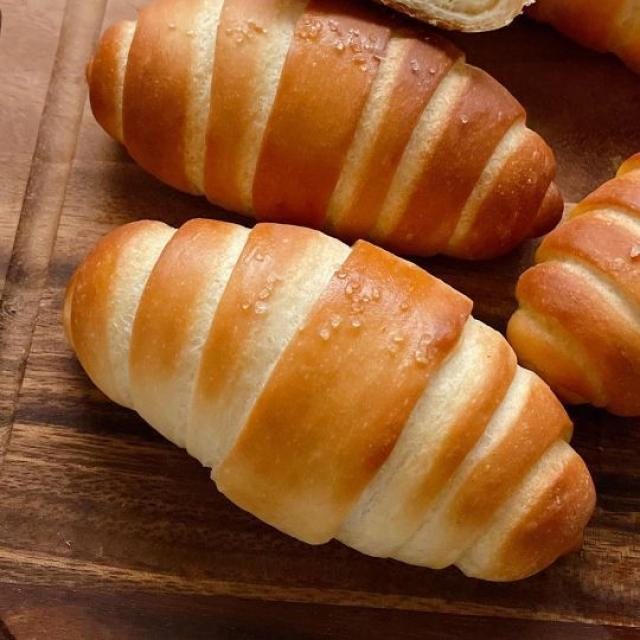bread: (64, 220, 594, 580), (88, 0, 561, 258), (509, 155, 639, 415), (528, 0, 639, 72), (380, 0, 533, 31)
